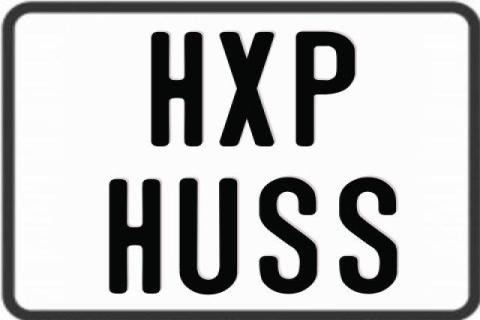H: (106, 177, 164, 297), (149, 29, 205, 145)
P: (295, 30, 356, 150)
S: (336, 176, 398, 295), (256, 177, 317, 293)
U: (178, 177, 239, 293)
X: (219, 32, 274, 146)
